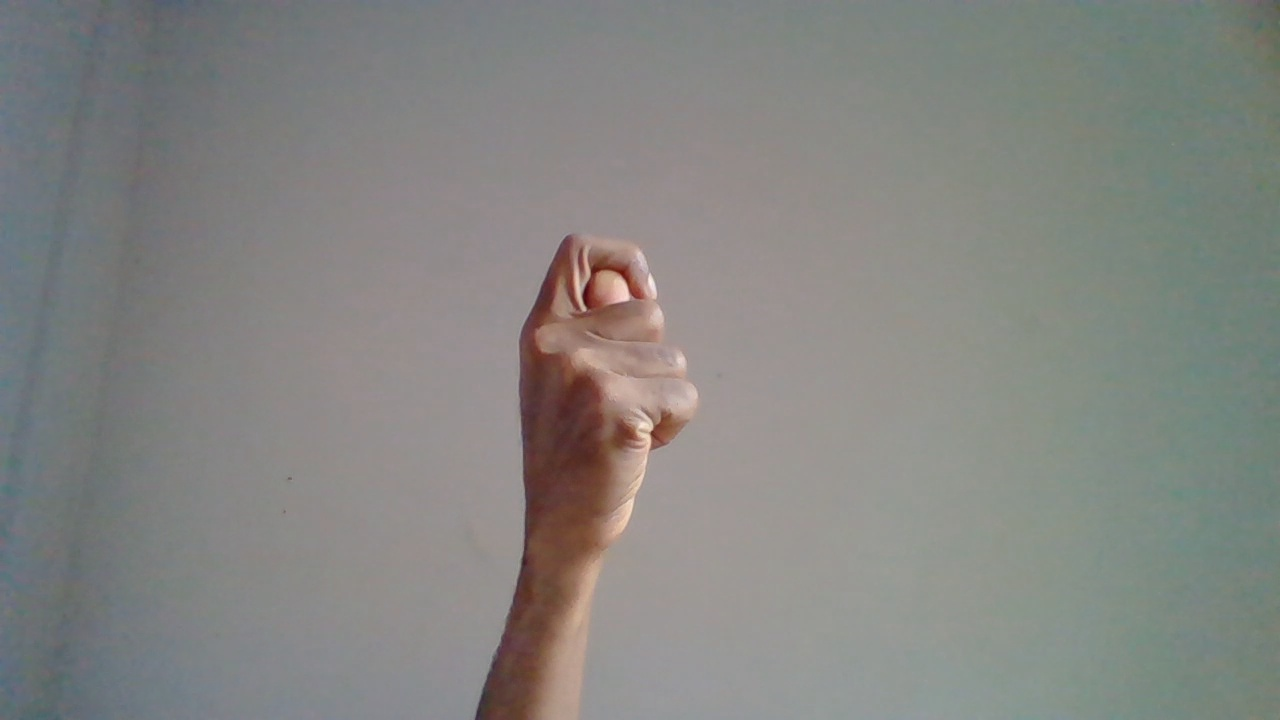che: (514, 235, 703, 693)
